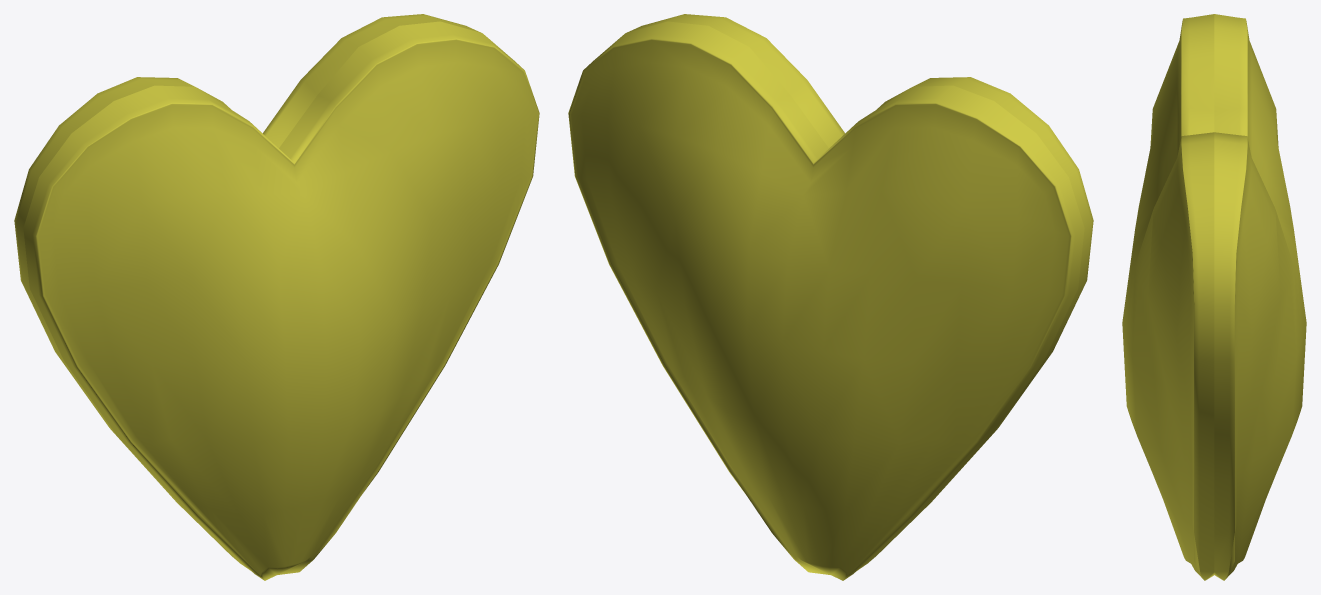
The model's file is Heart of Courage.fbx.
3 views of the same model, side by side, from view 1: azimuth 30°, elevation 25°; view 2: azimuth 150°, elevation 25°; view 3: azimuth 270°, elevation 25° (orthographic). The views are drawn at different scales.
Visible parts, largest first — view 1: polySurface1; view 2: polySurface1; view 3: polySurface1.
Boxes of the visible parts, x1,y1,x2,y2 form: polySurface1: (14,14,539,580); polySurface1: (568,14,1093,580); polySurface1: (1122,14,1306,580).
Bounding box in the file's own units: 3.14 × 3.08 × 1.05.
